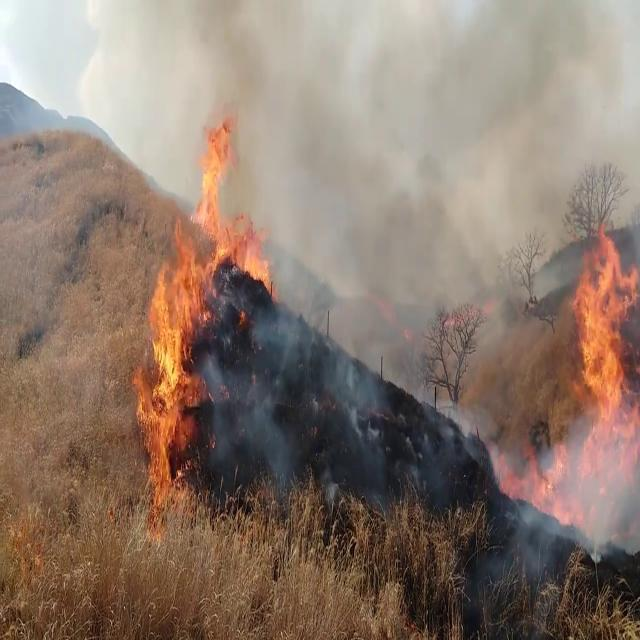Fire: (133, 113, 271, 490), (562, 225, 640, 463)
Smoke: (213, 3, 593, 489), (483, 375, 640, 608)
